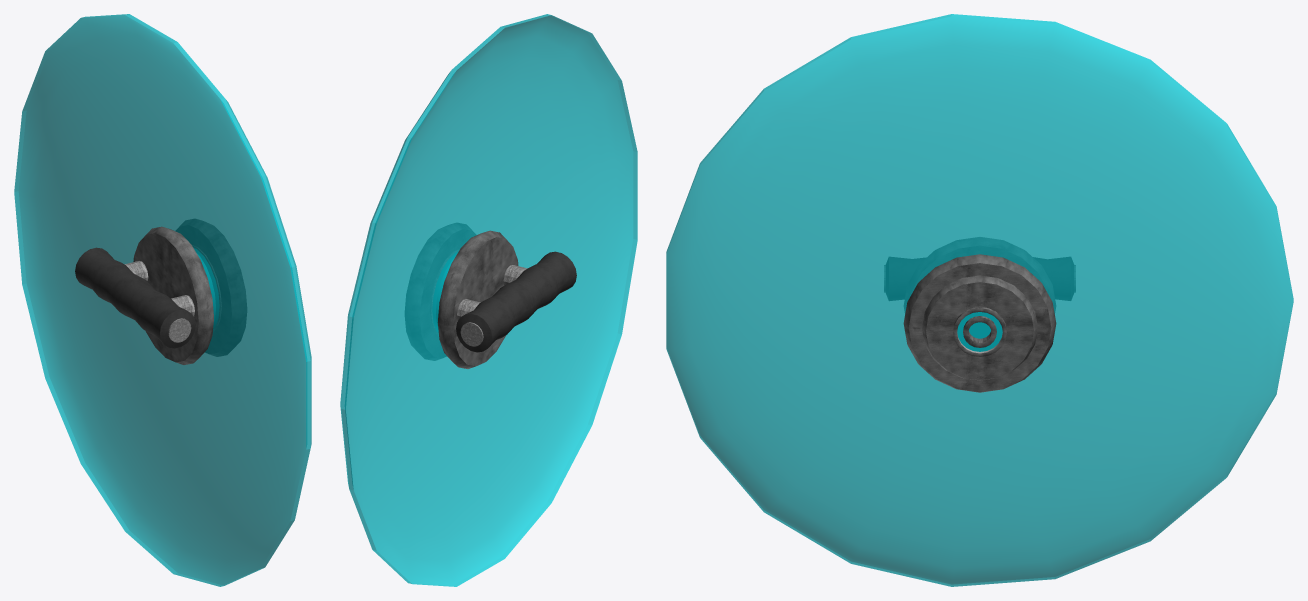
File: Shield.fbx
3 renders of one model, left to right at view 1: azimuth 30°, elevation 25°; view 2: azimuth 150°, elevation 25°; view 3: azimuth 270°, elevation 25°, orthographic. The views are drawn at different scales.
Parts seen in each view (by area): view 1: polySurface12; view 2: polySurface12; view 3: polySurface12.
Boxes of the visible parts, box(x1,y1,x2,y2) form: polySurface12: box(14, 14, 311, 586); polySurface12: box(340, 14, 637, 586); polySurface12: box(666, 14, 1293, 586).
Size of the model in its own units: 1.55 by 7.33 by 7.31.
Materials: 6 (3 with a texture image).
